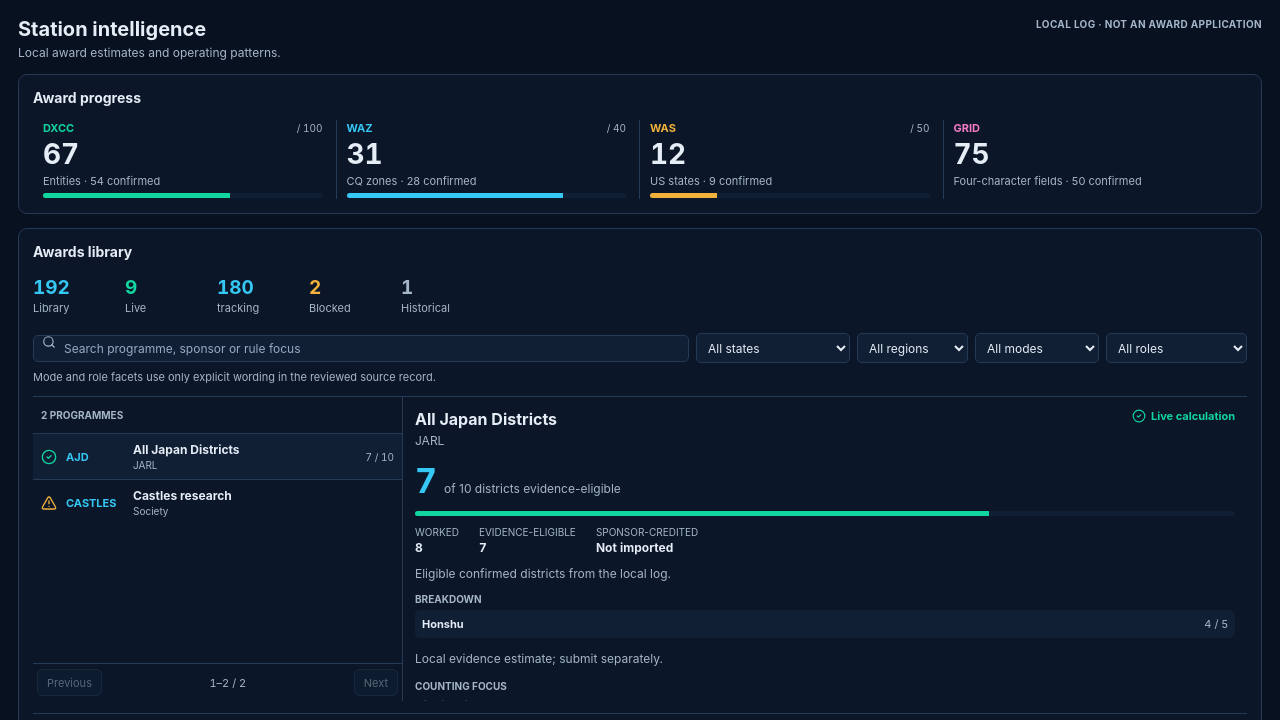
Test: native Insights and Awards presentation › keeps research-only and blocked programmes free of invented eligibility
Expected: the element named "All Japan Districts detail" is shown, [403,397,1247,701]
Click the button with aria-label "Castles research, Blocked".
click(218, 502)  # box [33,479,402,525]
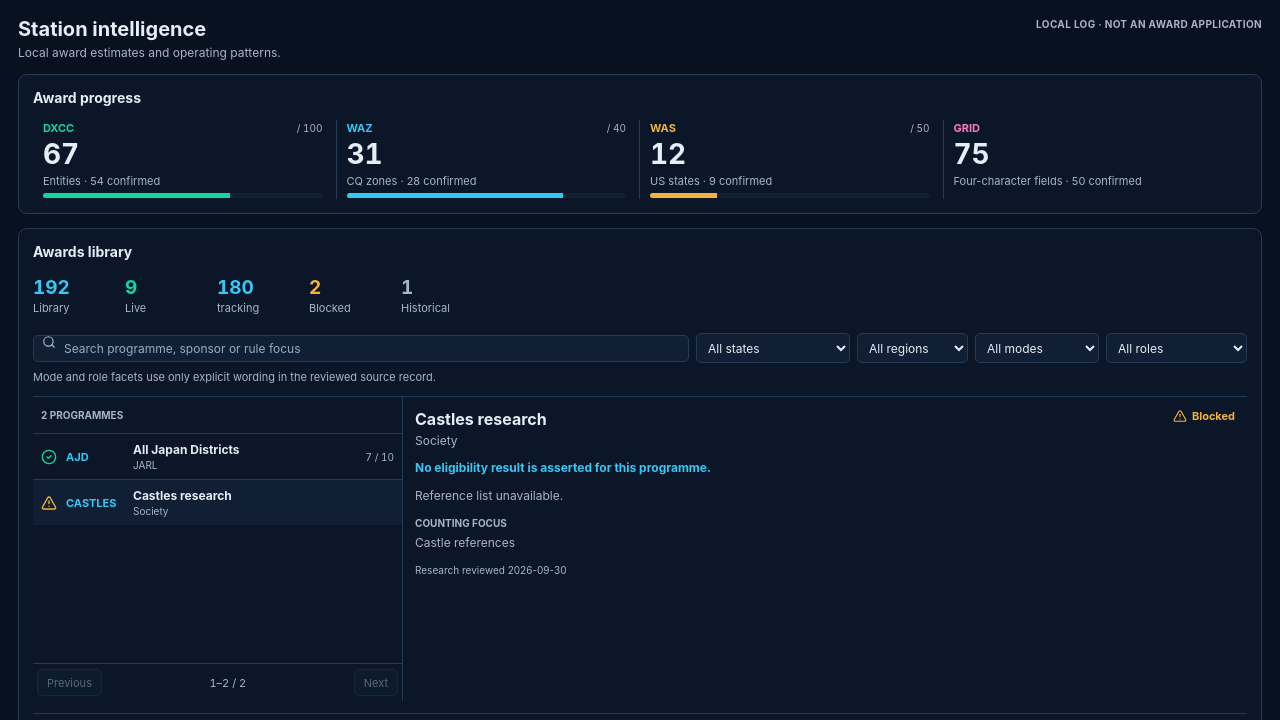
Expected: the text "No eligibility result is asserted for this programme." is shown, [415,460,711,475]
Expected: the text "Reference list unavailable." is shown, [415,488,563,503]
Expected: the text "evidence-eligible" is gone
